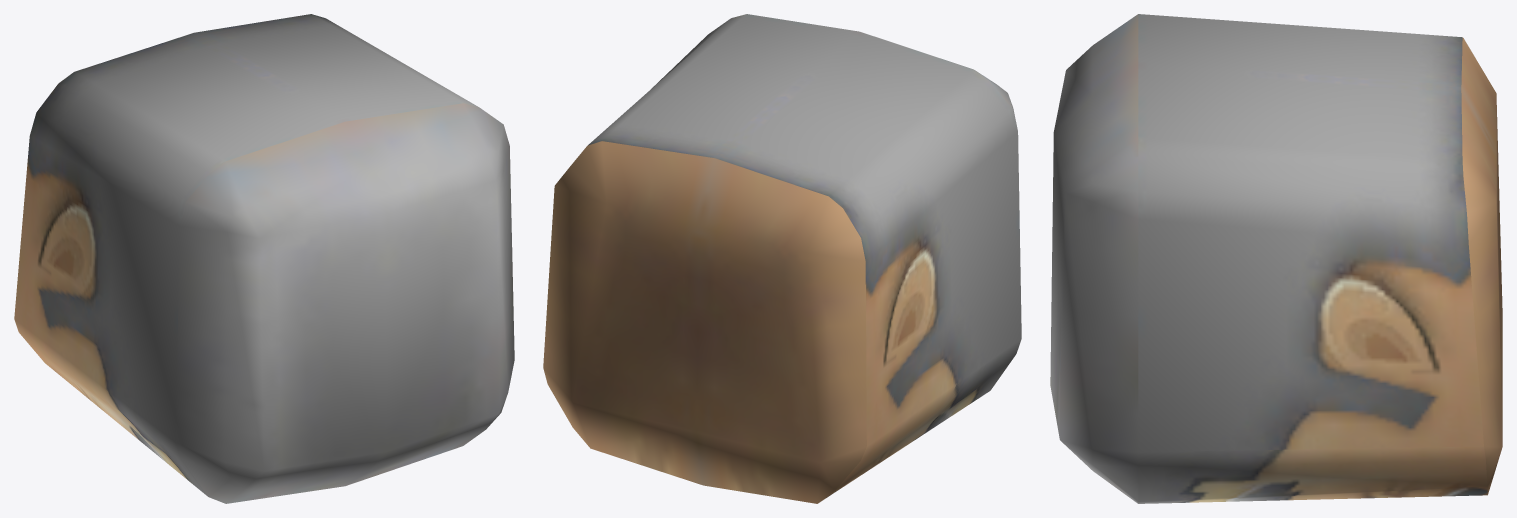
File: Avatar_Hostagel01_H_Head_212f77b6__Avatar_Hostagel01_d2cac6fe_c1f257.obj
3 renders of one model, left to right at view 1: azimuth 30°, elevation 25°; view 2: azimuth 150°, elevation 25°; view 3: azimuth 270°, elevation 25°, orthographic. The views are drawn at different scales.
Size of the model in its own units: 0.6857 by 0.7049 by 0.7416.
1 material, 1 textured.
